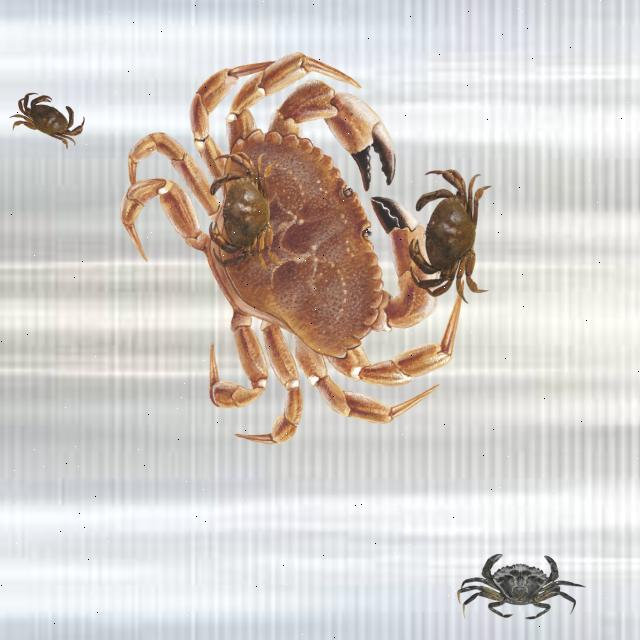European_Green_Crab: (456, 552, 588, 623)
